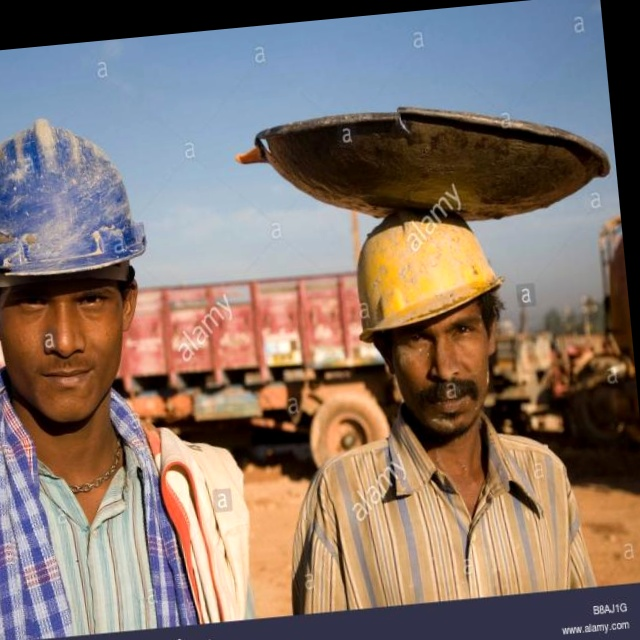Con_Casco: (0, 120, 145, 416), (362, 204, 506, 441)
